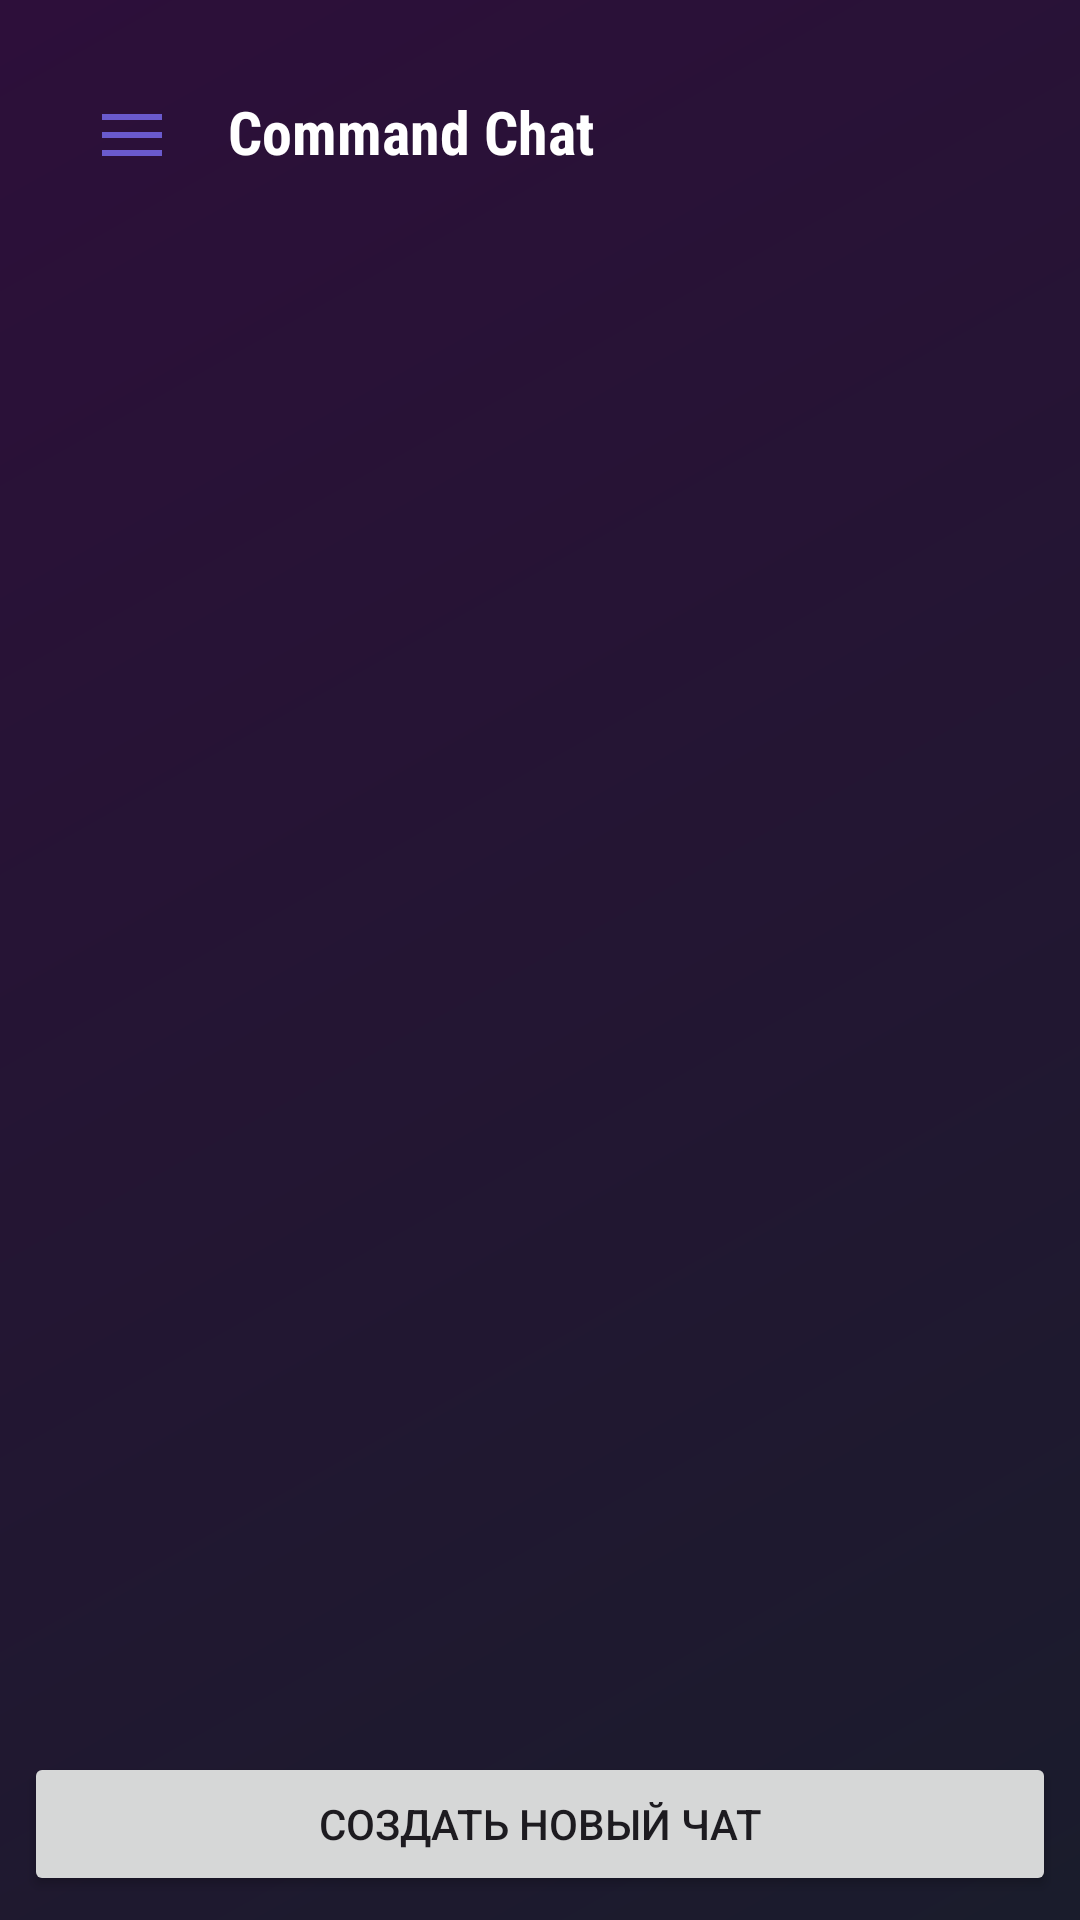

Icon bounding boxes for this 1080 x 1920 phone screenshot, format (x1, y1, x2, y2):
Открыть меню: (102, 114, 162, 156)
